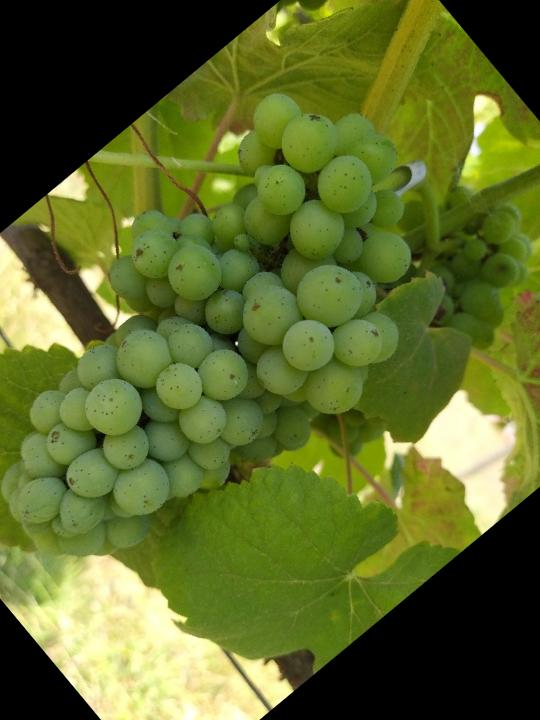grape: (0, 50, 518, 628)
